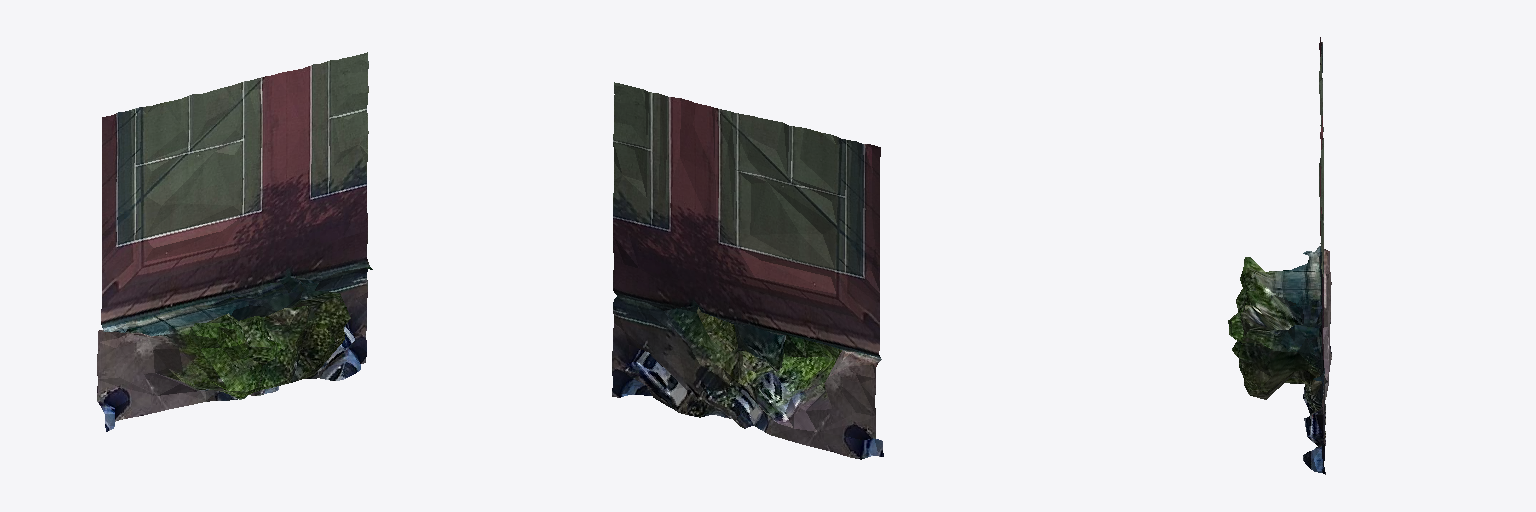
The picture shows the model from 3 angles: view 1: azimuth 30°, elevation 25°; view 2: azimuth 150°, elevation 25°; view 3: azimuth 270°, elevation 25°; orthographic projection.
Parts seen in each view (by area): view 1: obj_0; view 2: obj_0; view 3: obj_0.
Part boxes in pixels (left/top/right/bottom): obj_0: left=97, top=52, right=372, bottom=431; obj_0: left=612, top=82, right=883, bottom=459; obj_0: left=1228, top=37, right=1331, bottom=474.
Size of the model in its own units: 20.08 by 22.53 by 6.77.
1 materials, 1 textured.